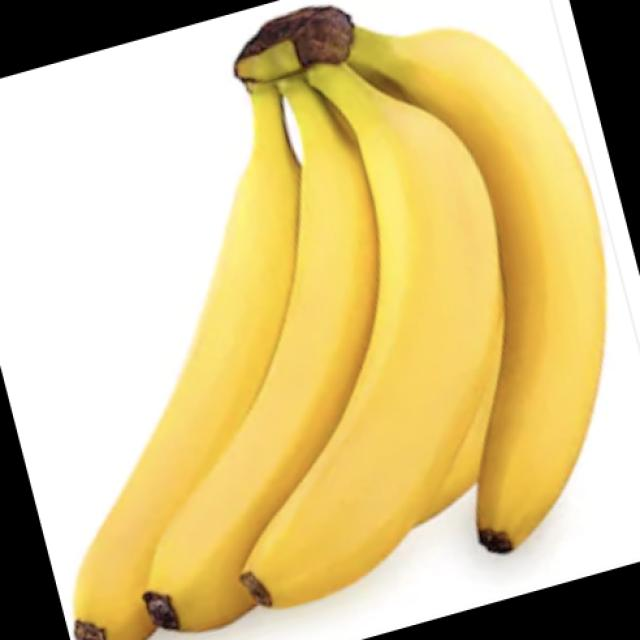god quality banana: (75, 7, 607, 640)
